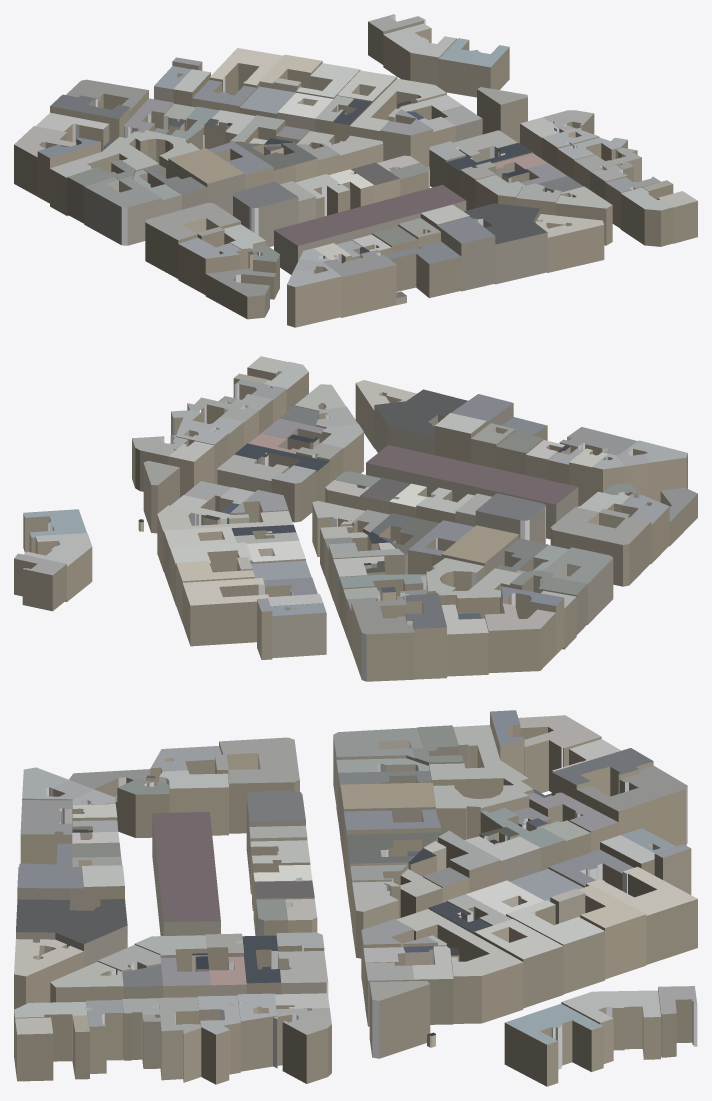
The picture shows the model from 3 angles, top to bottom: view 1: azimuth 30°, elevation 25°; view 2: azimuth 150°, elevation 25°; view 3: azimuth 270°, elevation 25°; orthographic projection. The views are drawn at different scales.
Parts seen in each view (by area): view 1: tuile; view 2: tuile; view 3: tuile.
Part boxes in pixels (box(x1,y1,x2,y2)): tuile: box(14, 14, 697, 327); tuile: box(14, 356, 697, 681); tuile: box(14, 710, 697, 1086).
Bounding box in the file's own units: 278 × 31.92 × 260.
